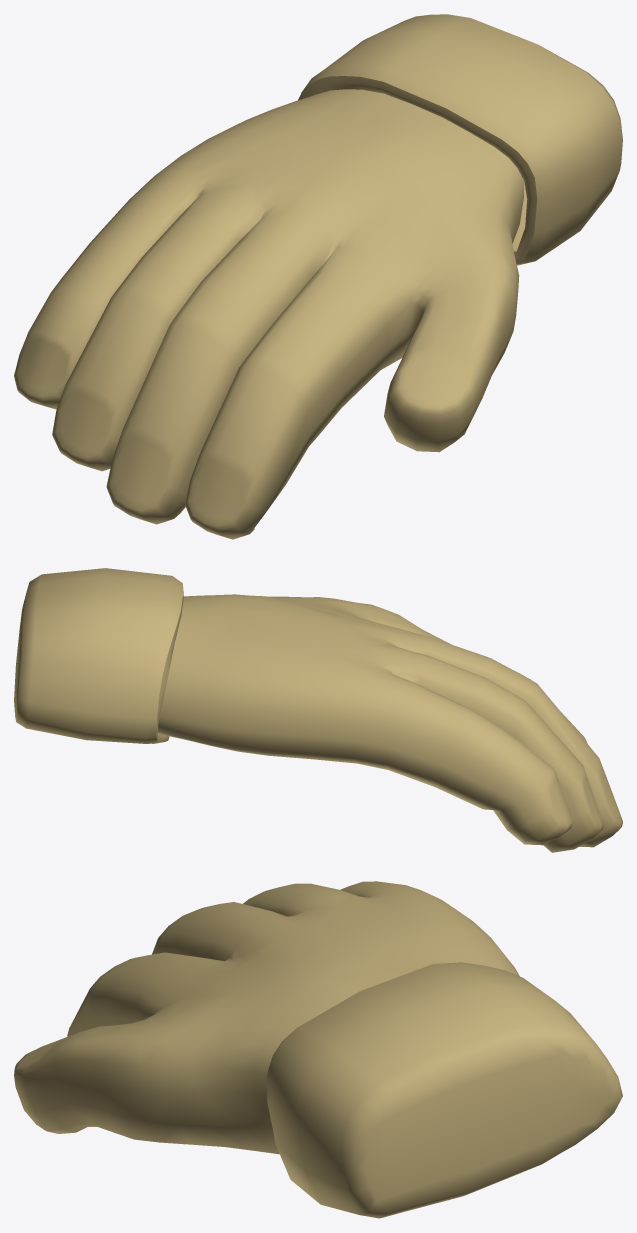
Rendered from SwapSlot-Glove Shadow.fbx.
The picture shows the model from 3 angles, top to bottom: view 1: azimuth 30°, elevation 25°; view 2: azimuth 150°, elevation 25°; view 3: azimuth 270°, elevation 25°; orthographic projection. The views are drawn at different scales.
Parts seen in each view (by area): view 1: SwapSlot-Glove Shadow; view 2: SwapSlot-Glove Shadow; view 3: SwapSlot-Glove Shadow.
Part boxes in pixels (left/top/right/bottom): SwapSlot-Glove Shadow: left=14, top=14, right=622, bottom=539; SwapSlot-Glove Shadow: left=14, top=568, right=622, bottom=852; SwapSlot-Glove Shadow: left=14, top=881, right=622, bottom=1218.
Bounding box in the file's own units: 14.38 × 6.45 × 11.57.
